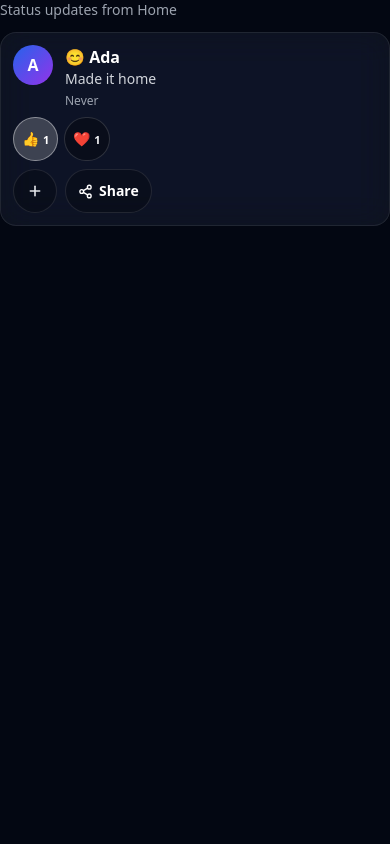
Scenario: Bubble overview sheets › status memos hide the emoji tray until plus is tapped and can share
Check: the element named "Reactions on this memo" is shown, box [13, 117, 110, 161]
Check: the button with aria-label "Share this memo" reads "Share", box [65, 169, 152, 213]
Click the button named "Add reaction". click: {"x": 35, "y": 191}
box: [13, 169, 57, 213]
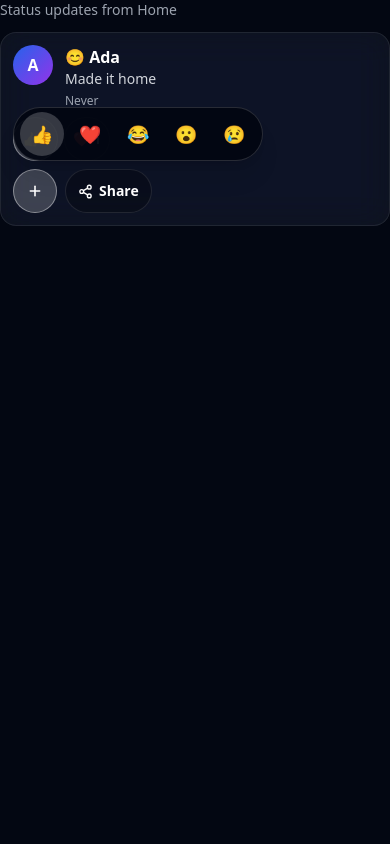
Check: the list named "Choose a reaction" is shown, box [13, 107, 263, 161]
Click the option named "React with laugh". click: {"x": 138, "y": 134}
box: [116, 112, 160, 156]
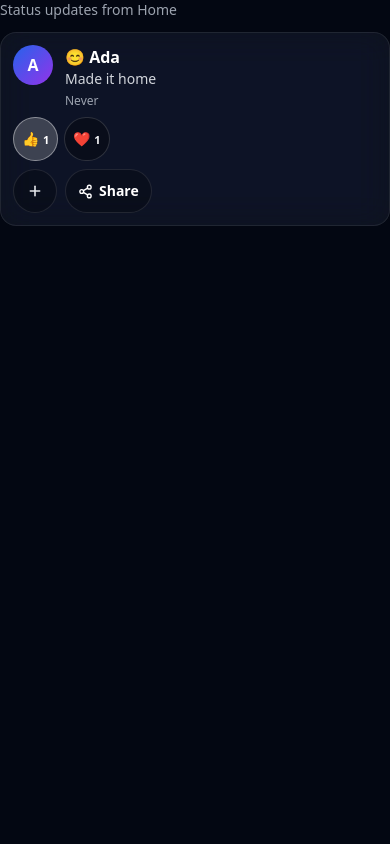
Click the button with aria-label "Share this memo". click: {"x": 108, "y": 191}
box: [65, 169, 152, 213]
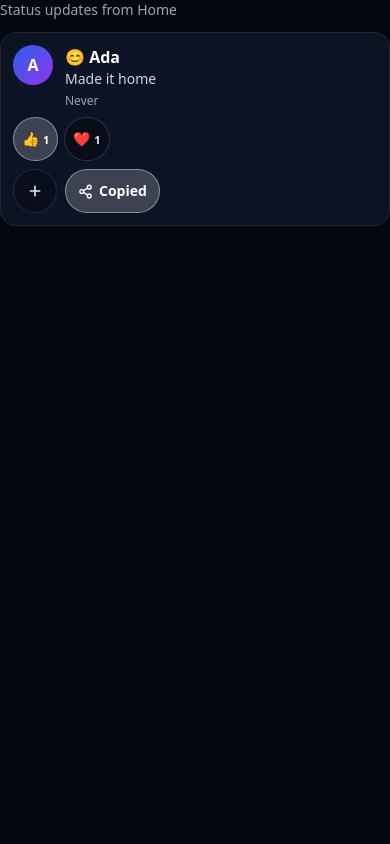
Check: the button with aria-label "Share this memo" reads "Copied", box [65, 169, 160, 213]
